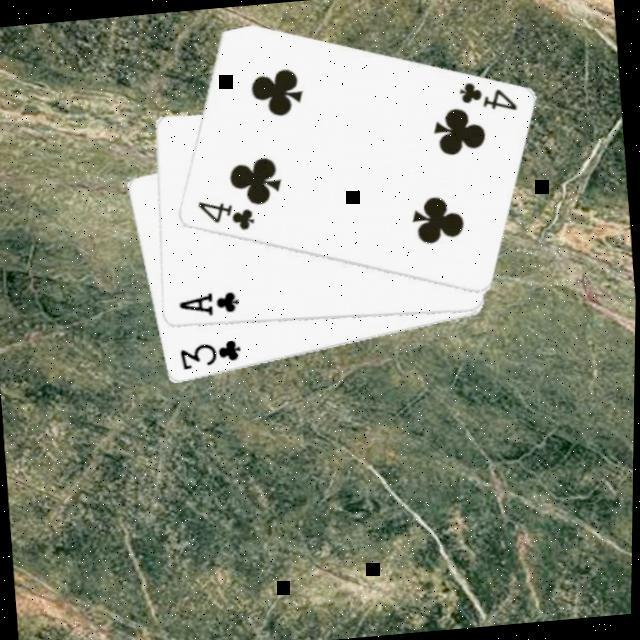3C: (176, 335, 247, 373)
4C: (454, 74, 522, 117), (194, 193, 259, 237)
AC: (176, 286, 243, 322)
